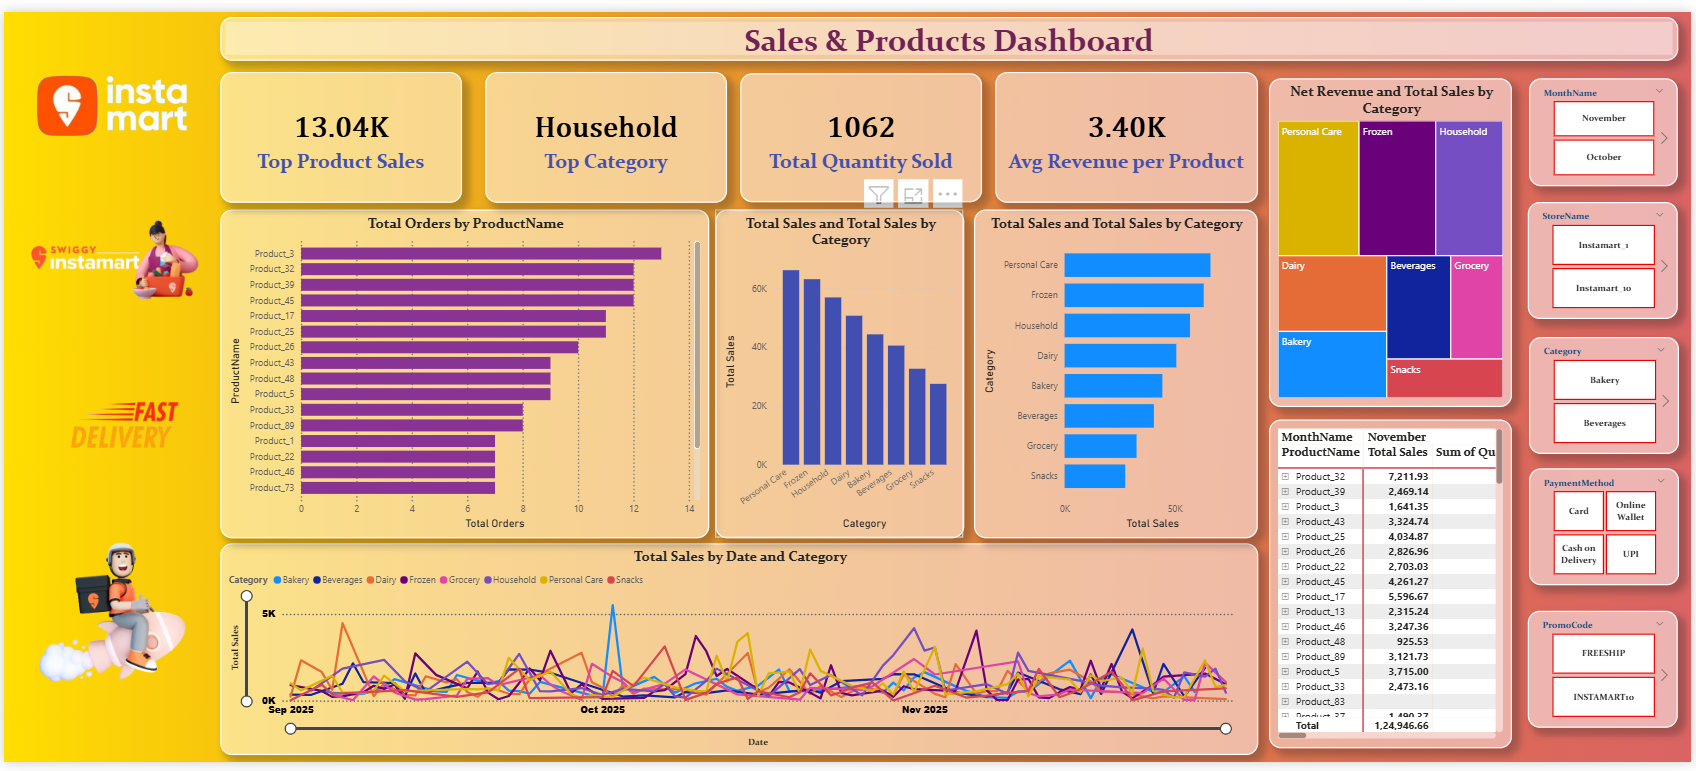

The dashboard page shown, as its layout file describes it:
{"tool":"powerbi","page":{"name":"Page 2","canvas":[2250,1000],"ordinal":1},"visuals":[{"type":"lineChart","fields":{"Y":["Orders.Total Sales"],"Category":["DateDim.Date"],"Series":["Orders.Category"]},"box":[288,708,1384,282],"z":0},{"type":"clusteredBarChart","fields":{"Y":["Orders.Total Orders"],"Category":["Products.ProductName"]},"box":[288,264,652,438],"z":1000},{"type":"columnChart","fields":{"Category":["Orders.Category"],"Y":["Orders.Total Sales"]},"box":[948,264,332,438],"z":2000},{"type":"slicer","fields":{"Values":["DateDim.MonthName"]},"box":[2034,88,198,144],"z":3000},{"type":"slicer","fields":{"Values":["Orders.StoreName"]},"box":[2032,254,200,156],"z":4000},{"type":"card","fields":{"Values":["Orders.Top Product Sales"]},"box":[288,80,322,174],"z":5000},{"type":"card","fields":{"Values":["Orders.Top Category"]},"box":[642,80,322,174],"z":6000},{"type":"card","fields":{"Values":["Orders.Avg Revenue per Product"]},"box":[1322,80,350,174],"z":7000},{"type":"card","fields":{"Values":["Orders.Total Quantity Sold"]},"box":[982,82,322,172],"z":8000},{"type":"image","box":[25,0,238.3,253.3],"z":9000},{"type":"image","box":[26.7,160,238.3,340],"z":10000},{"type":"image","box":[25,608.3,261.7,380],"z":11000},{"type":"image","box":[0,398.3,321.7,295],"z":12000},{"type":"shape","box":[288,6,1944,58],"z":13000},{"type":"barChart","fields":{"Category":["Orders.Category"],"Y":["Orders.Total Sales"]},"box":[1294,264,378,438],"z":14000},{"type":"treemap","fields":{"Group":["Orders.Category"],"Values":["Orders.Net Revenue"]},"box":[1686,88,324,438],"z":15000},{"type":"pivotTable","fields":{"Rows":["Orders.ProductName","Orders.Category"],"Values":["Orders.Total Sales","Sum(Orders.Quantity)","Orders.Net Revenue"],"Columns":["DateDim.MonthName"]},"box":[1686,544,324,438],"z":16000},{"type":"slicer","fields":{"Values":["Orders.Category"]},"box":[2034,434,200,156],"z":17000},{"type":"slicer","fields":{"Values":["Orders.PaymentMethod"]},"box":[2034,608,200,156],"z":18000},{"type":"slicer","fields":{"Values":["Orders.PromoCode"]},"box":[2032,798,200,156],"z":19000}]}

Visuals, with their boxes in screenshot pixels (x1, y1, x2, y2), scaled from the page's 2250x1000 canvas onto the 1696x771 screenshot:
lineChart - Orders.Total Sales x DateDim.Date: left=217, top=546, right=1260, bottom=763
clusteredBarChart - Orders.Total Orders x Products.ProductName: left=217, top=204, right=709, bottom=541
columnChart - Orders.Category x Orders.Total Sales: left=715, top=204, right=965, bottom=541
slicer - DateDim.MonthName: left=1533, top=68, right=1682, bottom=179
slicer - Orders.StoreName: left=1532, top=196, right=1682, bottom=316
card - Orders.Top Product Sales: left=217, top=62, right=460, bottom=196
card - Orders.Top Category: left=484, top=62, right=727, bottom=196
card - Orders.Avg Revenue per Product: left=996, top=62, right=1260, bottom=196
card - Orders.Total Quantity Sold: left=740, top=63, right=983, bottom=196
image: left=19, top=0, right=198, bottom=195
image: left=20, top=123, right=200, bottom=386
image: left=19, top=469, right=216, bottom=762
image: left=0, top=307, right=242, bottom=535
shape: left=217, top=5, right=1682, bottom=49
barChart - Orders.Category x Orders.Total Sales: left=975, top=204, right=1260, bottom=541
treemap - Orders.Category x Orders.Net Revenue: left=1271, top=68, right=1515, bottom=406
pivotTable - Orders.ProductName x Orders.Category: left=1271, top=419, right=1515, bottom=757
slicer - Orders.Category: left=1533, top=335, right=1684, bottom=455
slicer - Orders.PaymentMethod: left=1533, top=469, right=1684, bottom=589
slicer - Orders.PromoCode: left=1532, top=615, right=1682, bottom=736
